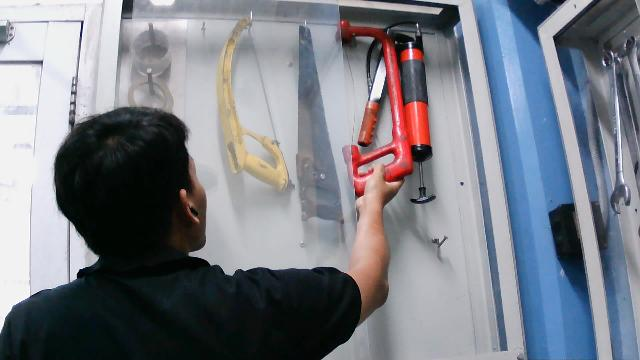gergaji_besi: (332, 13, 419, 203)
